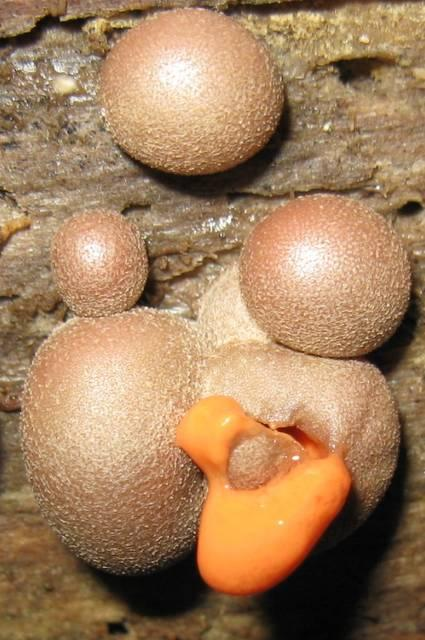poisonous_mushroom: (17, 193, 411, 595), (17, 305, 209, 577), (173, 392, 353, 596), (94, 5, 286, 176), (237, 191, 413, 358), (49, 205, 150, 316)
